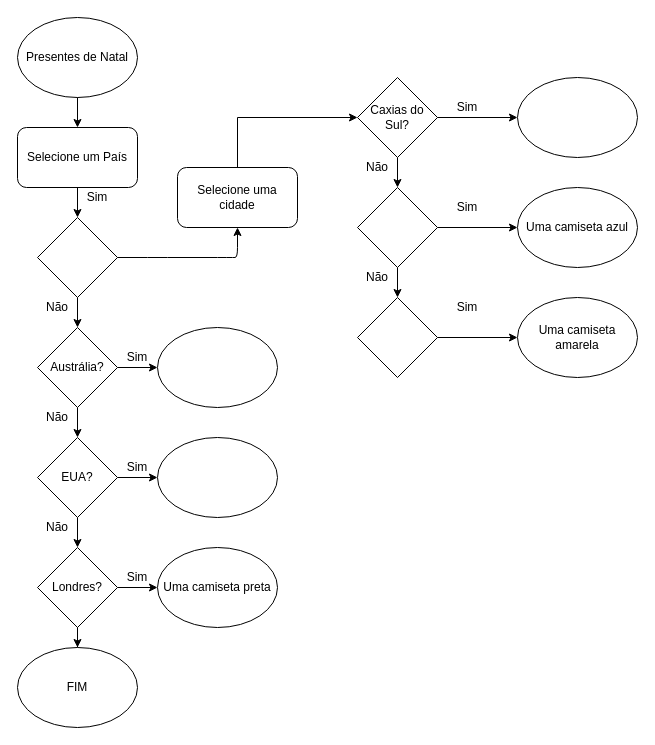
Some shapes in this 655 by 745 pixel diagram are drawn without their labels. Each missing label, with the box of its shape:
Brasil?: (36, 216, 118, 298)
Porto Alegre?: (356, 186, 438, 268)
São Paulo?: (356, 296, 438, 378)
Uma camiseta branca: (516, 76, 638, 158)
Uma camiseta roxa: (156, 436, 278, 518)
Uma camiseta verde: (156, 326, 278, 408)
